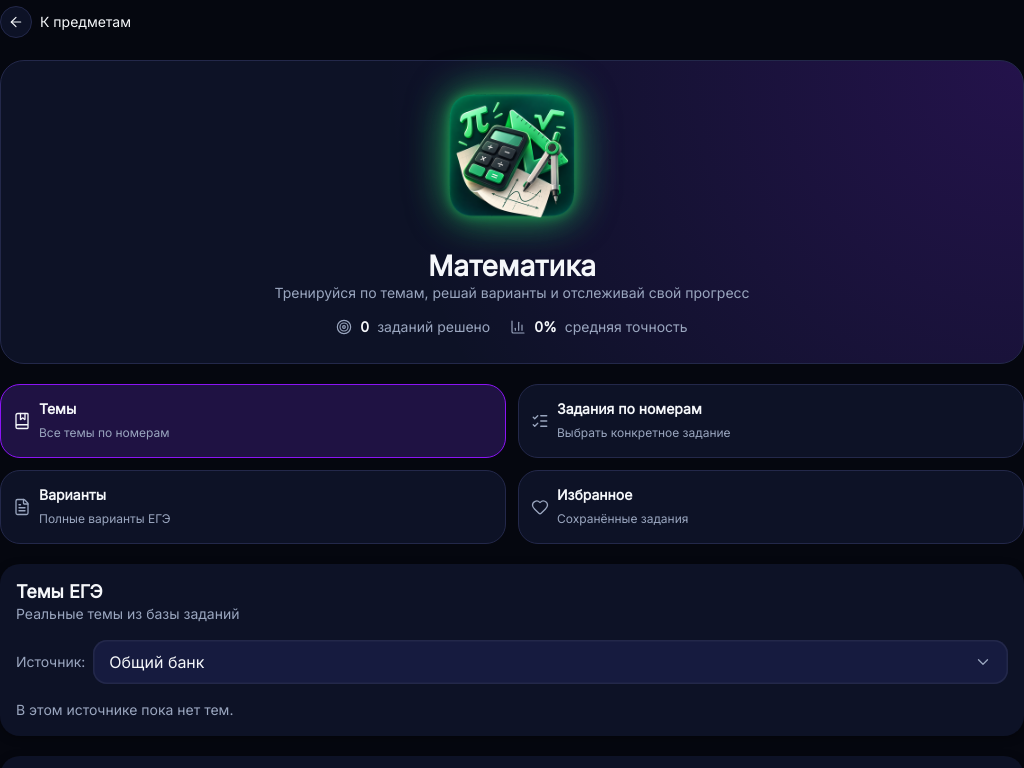
SubjectDesktop — BackRow › returns to the parent screen it opened from (subjectCatalog), not the tab underneath
Click the button "К предметам": click(66, 22) left=0, top=0, right=131, bottom=44
(page scrolled)
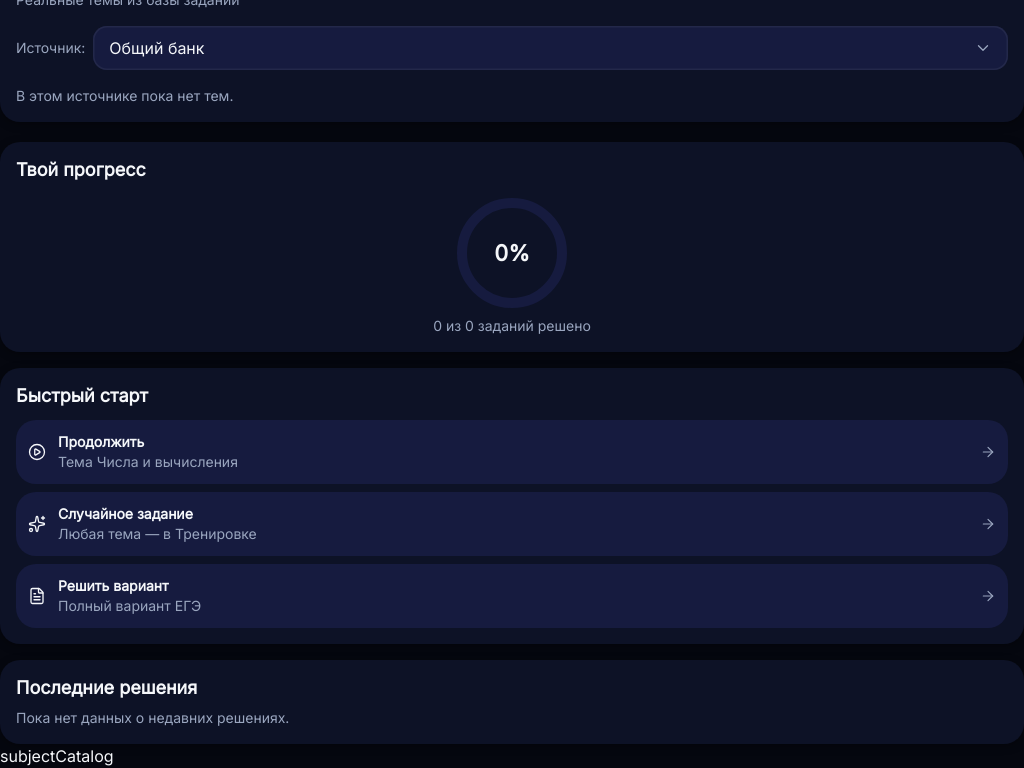
Check: the text with test id "overlay" reads "subjectCatalog", box left=0, top=746, right=114, bottom=766
